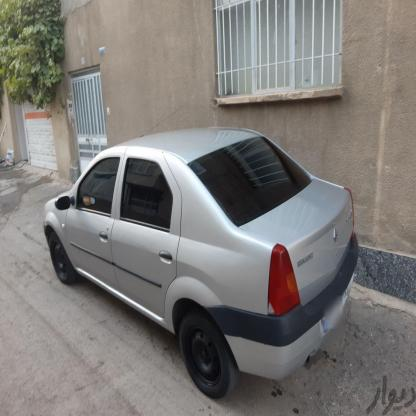Car: (43, 126, 359, 394)
